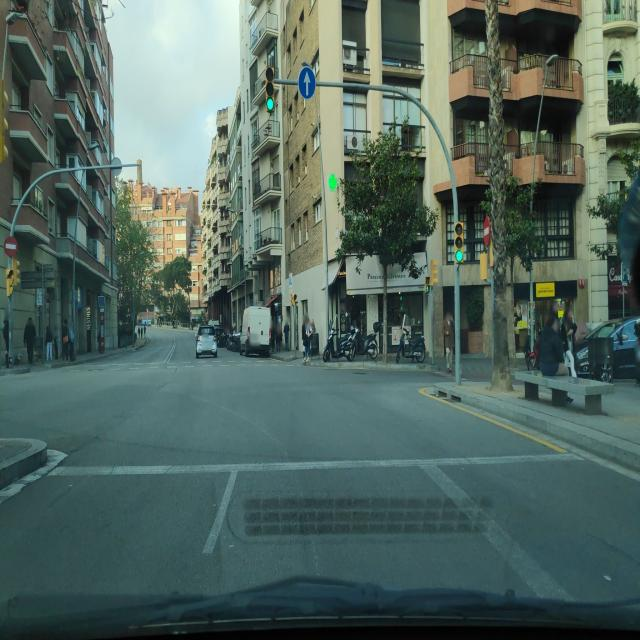bike: (398, 320, 427, 366), (322, 323, 355, 363), (345, 329, 379, 362), (226, 332, 241, 352), (216, 327, 228, 346)
car: (575, 316, 640, 380), (195, 325, 218, 358)
